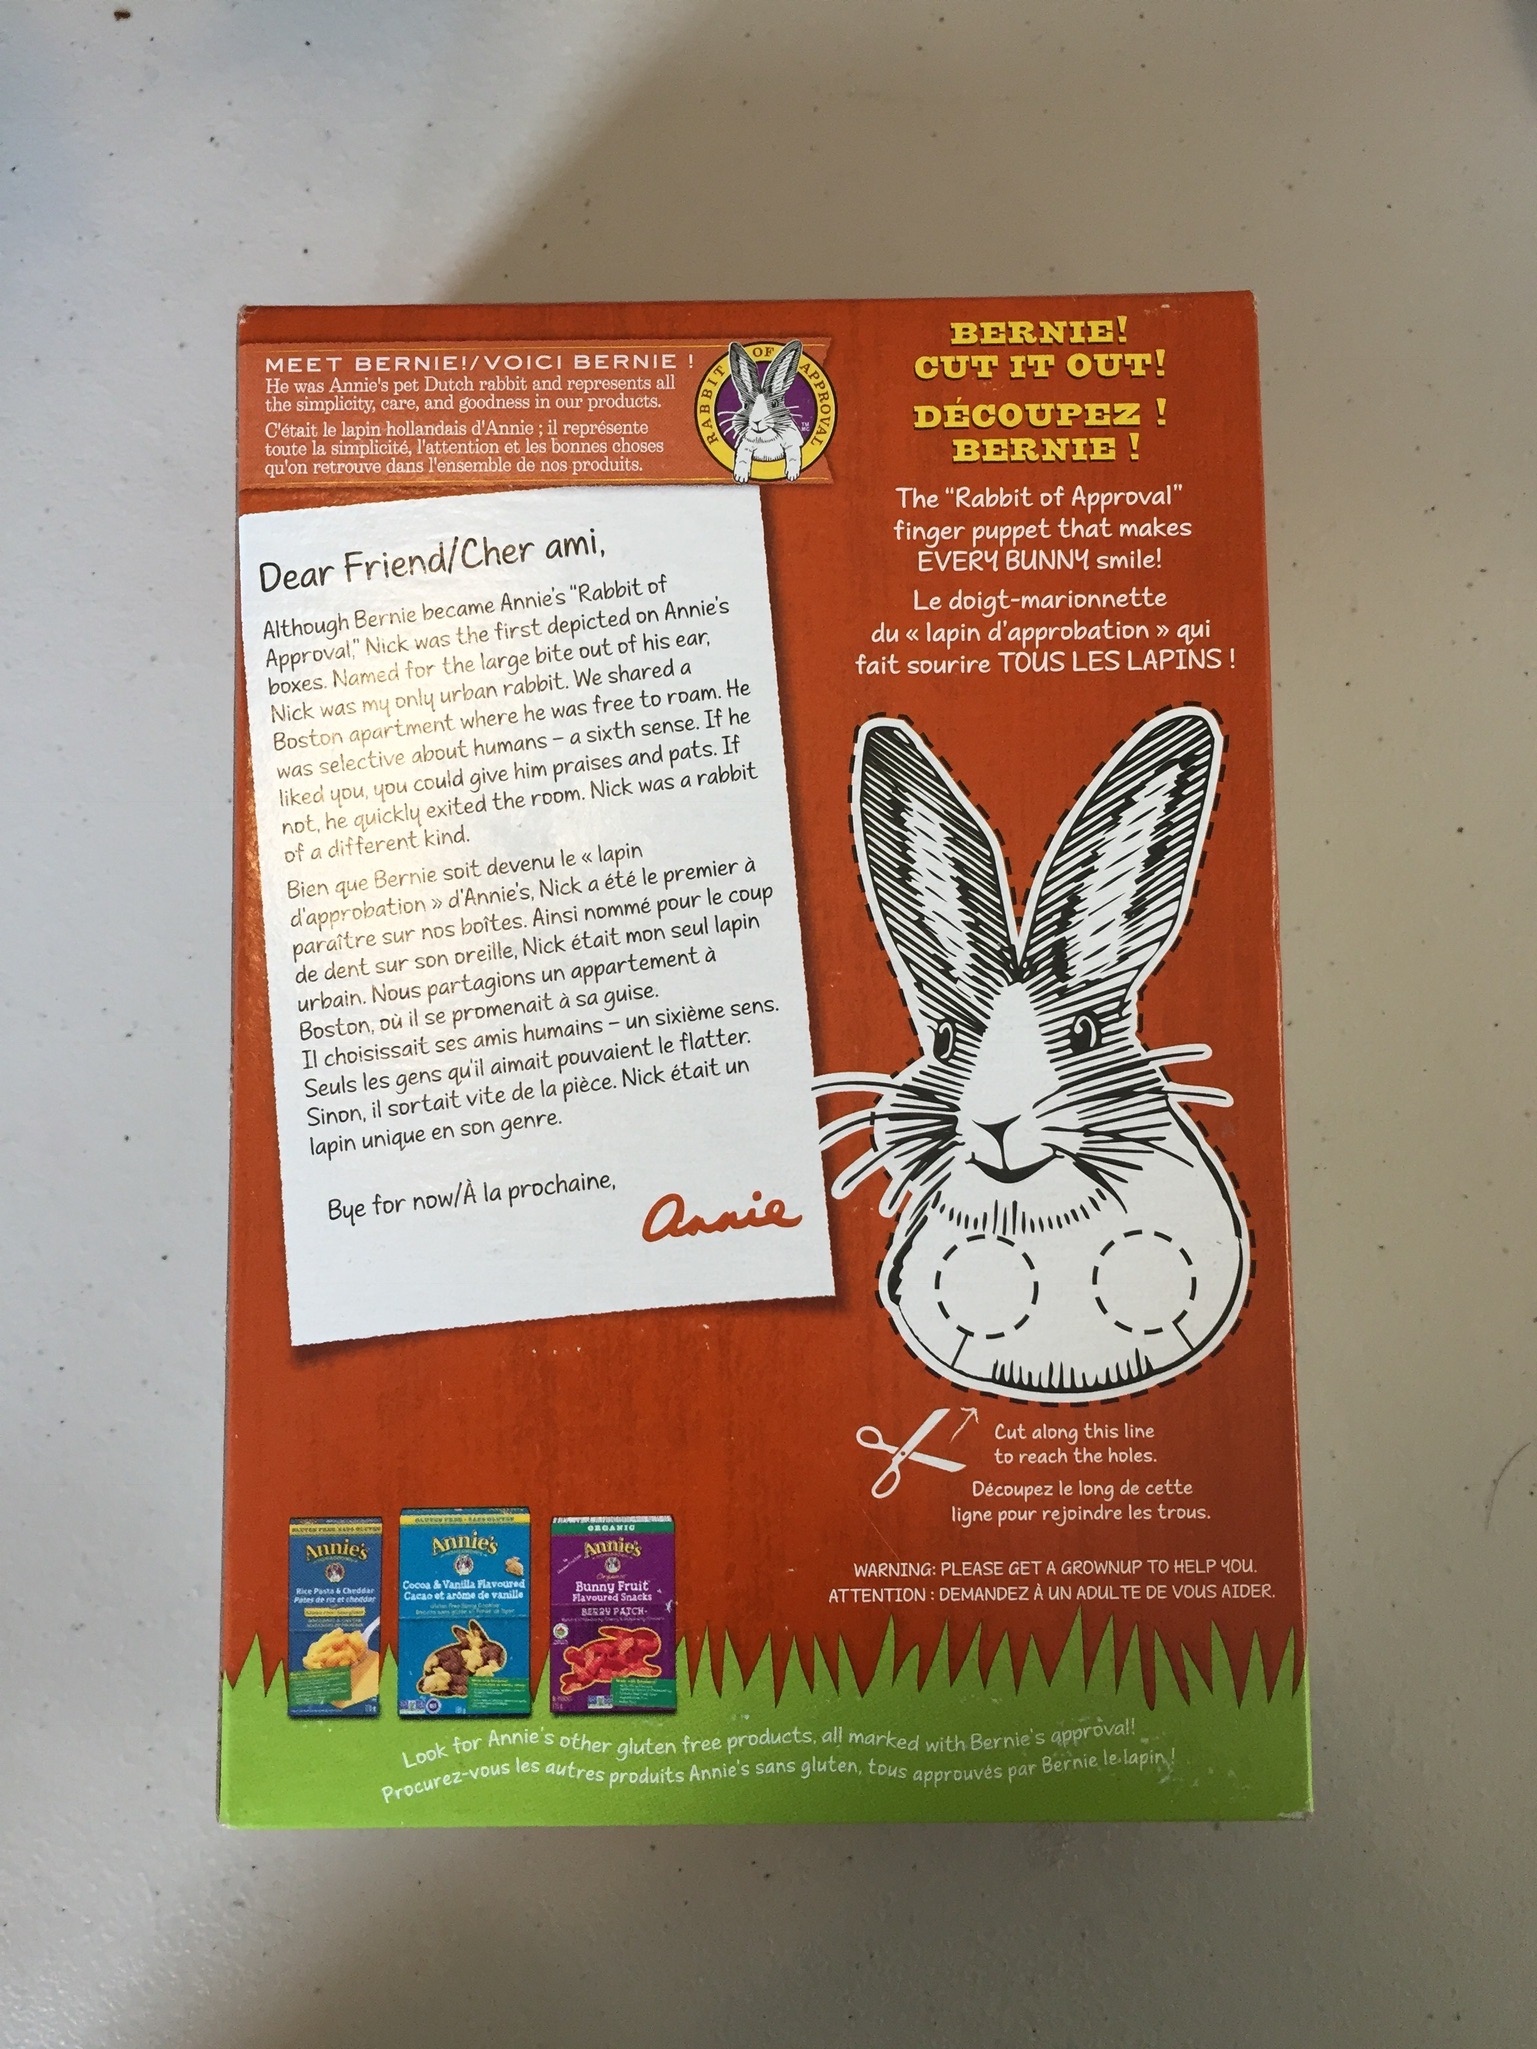annies_snickerdoodle_cinnamon_sugar: (249, 316, 1285, 1808)
